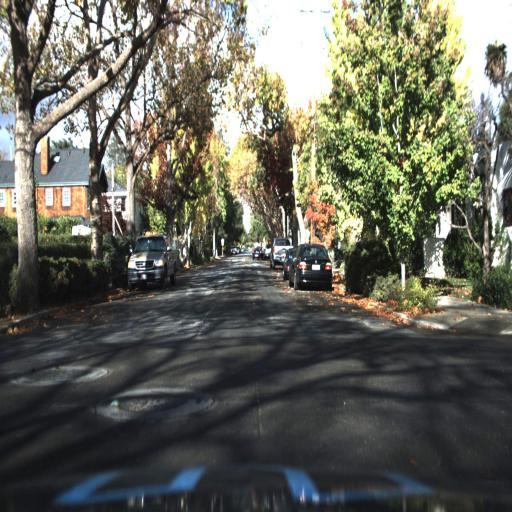car: (289, 242, 337, 296), (127, 232, 173, 286), (269, 234, 293, 271), (271, 237, 285, 271), (252, 243, 266, 261)
